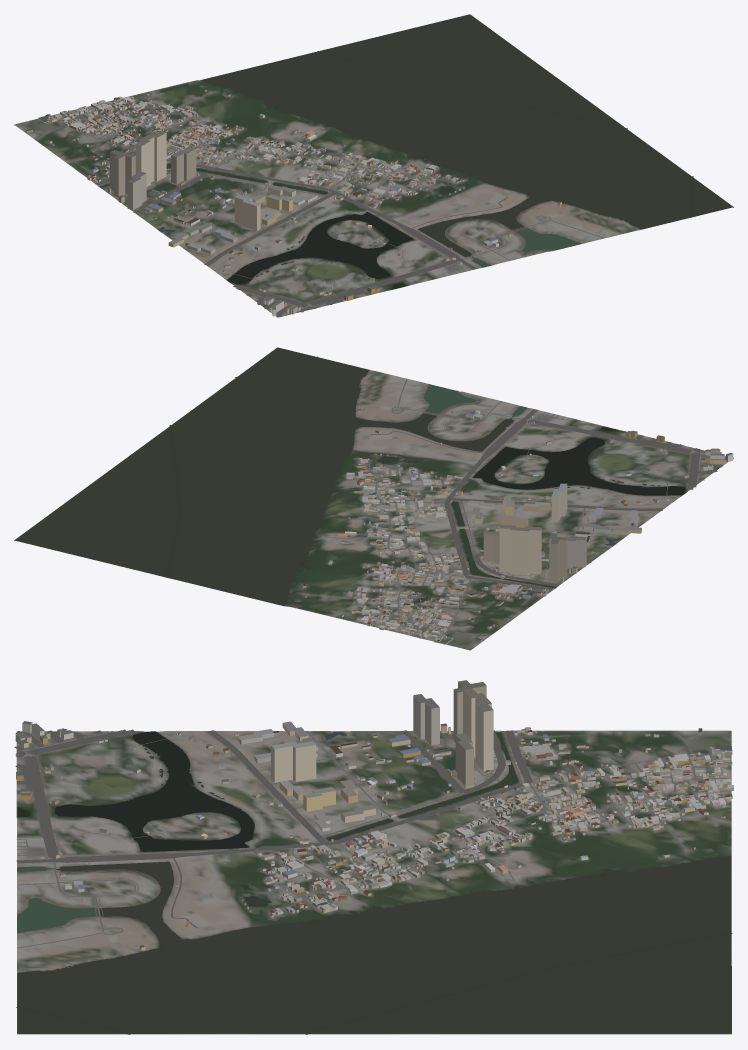
3 renders of one model, top to bottom at view 1: azimuth 30°, elevation 25°; view 2: azimuth 150°, elevation 25°; view 3: azimuth 270°, elevation 25°, orthographic. The views are drawn at different scales.
Visible parts, largest first — view 1: water, ground, buildings, roads; view 2: water, ground, buildings, roads; view 3: water, ground, buildings, roads.
Boxes of the visible parts, bbox=[...] form: water: bbox=[101, 14, 732, 289]; ground: bbox=[14, 25, 733, 317]; buildings: bbox=[25, 89, 561, 316]; roads: bbox=[26, 93, 604, 317]; water: bbox=[15, 347, 685, 605]; ground: bbox=[14, 352, 733, 650]; buildings: bbox=[303, 409, 733, 644]; roads: bbox=[309, 378, 733, 646]; water: bbox=[16, 731, 732, 1034]; ground: bbox=[16, 730, 731, 1034]; buildings: bbox=[15, 680, 733, 950]; roads: bbox=[14, 729, 731, 948].
Bounding box in the file's own units: 1428 × 135 × 1411.
